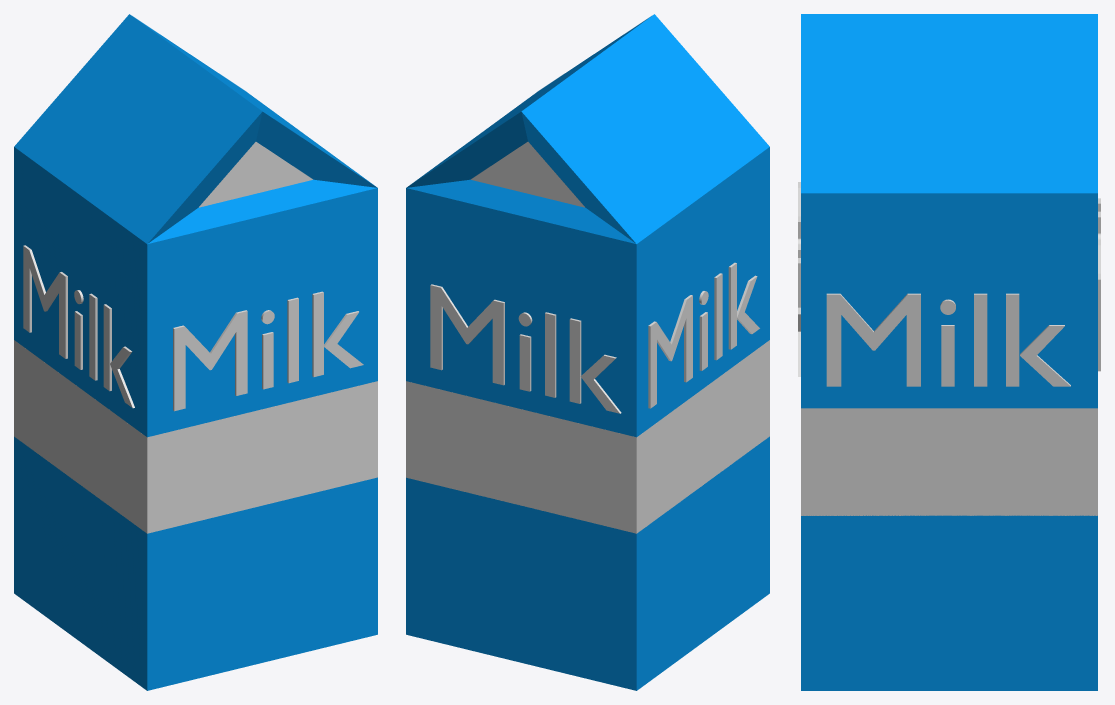
The model's file is milk.fbx.
The picture shows the model from 3 angles, left to right: view 1: azimuth 30°, elevation 25°; view 2: azimuth 150°, elevation 25°; view 3: azimuth 270°, elevation 25°; orthographic projection. The views are drawn at different scales.
Parts seen in each view (by area): view 1: Cube.001, Cube.002, Text, Text.002, Plane; view 2: Cube.001, Cube.002, Text.001, Text.002, Plane; view 3: Cube.001, Cube.002, Text.003, Text, Text.001.
Part boxes in pixels (x1=…): Cube.001: x1=14, y1=14, x2=377, y2=690; Cube.002: x1=14, y1=340, x2=377, y2=533; Text: x1=173, y1=291, x2=363, y2=411; Text.002: x1=23, y1=245, x2=134, y2=408; Plane: x1=199, y1=142, x2=312, y2=207; Cube.001: x1=406, y1=14, x2=769, y2=690; Cube.002: x1=406, y1=340, x2=769, y2=533; Text.001: x1=430, y1=284, x2=621, y2=413; Text.002: x1=648, y1=262, x2=759, y2=408; Plane: x1=471, y1=142, x2=584, y2=207; Cube.001: x1=801, y1=14, x2=1097, y2=690; Cube.002: x1=801, y1=408, x2=1097, y2=515; Text.003: x1=826, y1=293, x2=1070, y2=386; Text: x1=798, y1=182, x2=800, y2=376; Text.001: x1=1098, y1=198, x2=1100, y2=371.
Size of the model in its own units: 204 by 457 by 204.
